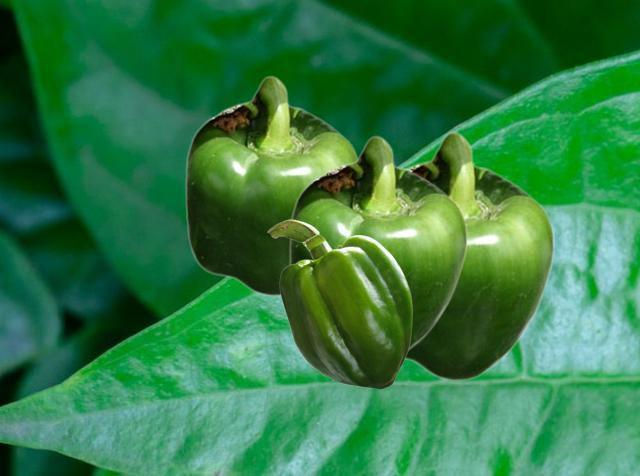bell_pepper: (288, 135, 467, 351), (184, 75, 357, 296), (405, 131, 554, 381), (267, 219, 411, 388)
